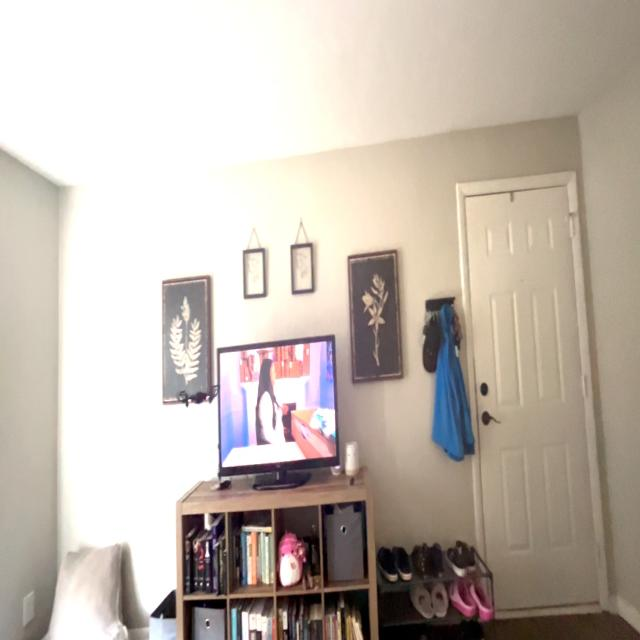drone: (165, 371, 232, 409)
